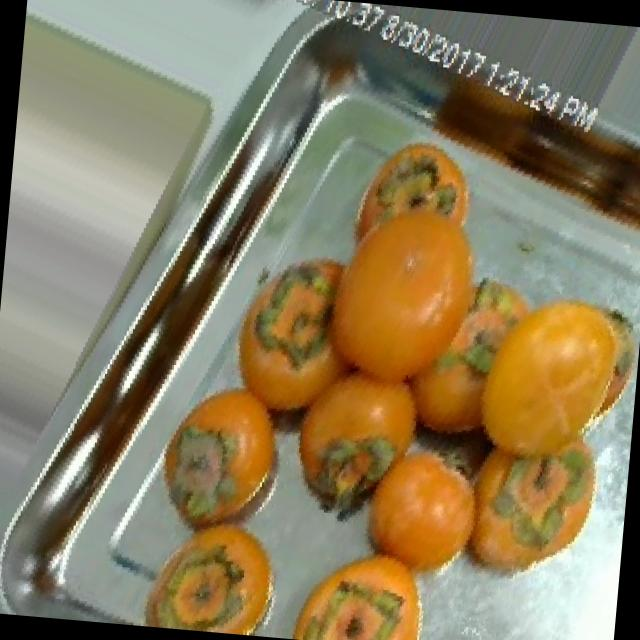Fruit: (126, 354, 322, 580), (322, 110, 508, 332), (452, 404, 620, 602), (125, 498, 303, 638), (276, 528, 437, 640)
